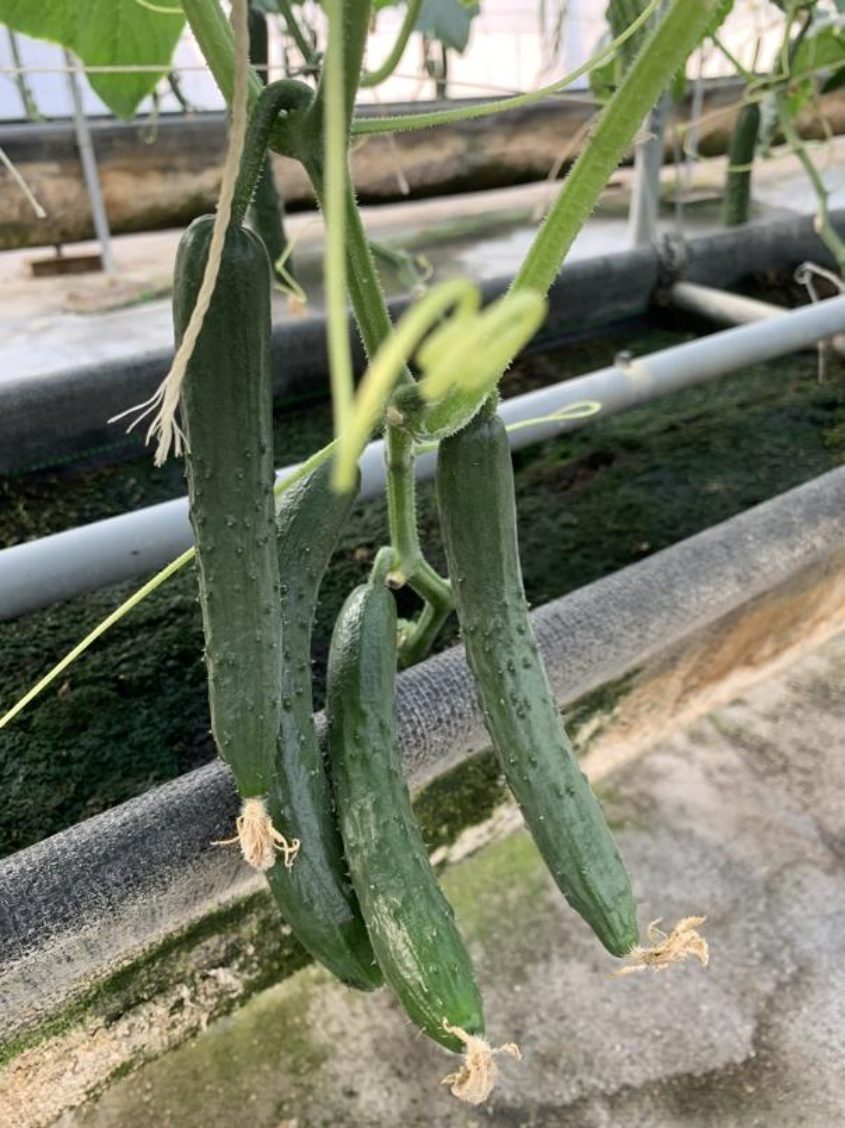mature: (425, 418, 652, 963)
